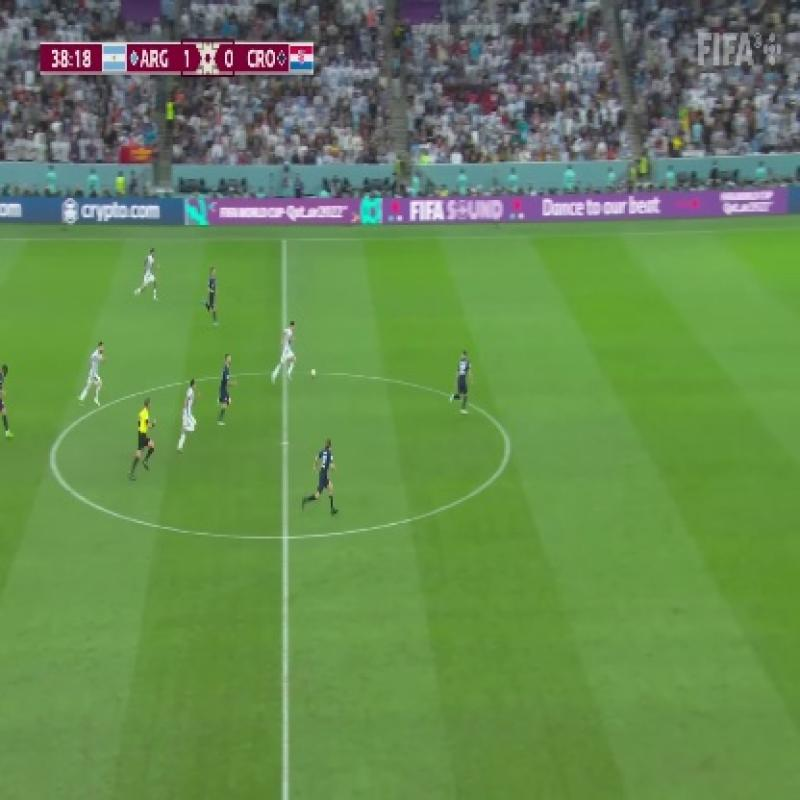13: (275, 227, 294, 252)
14: (272, 362, 301, 384)
15: (271, 517, 298, 554)
c: (36, 439, 68, 482), (495, 429, 525, 459)
